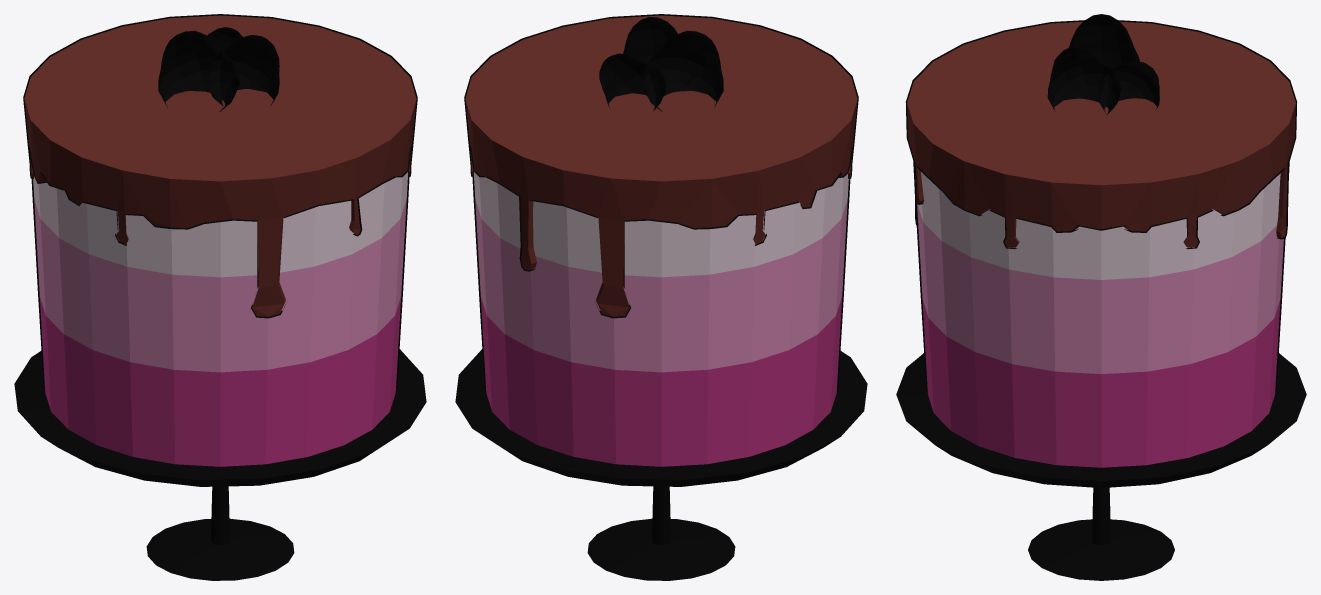
The model's file is cake2.fbx.
3 renders of one model, left to right at view 1: azimuth 30°, elevation 25°; view 2: azimuth 150°, elevation 25°; view 3: azimuth 270°, elevation 25°, orthographic.
Parts seen in each view (by area): view 1: Sphere.002_0; view 2: Sphere.002_0; view 3: Sphere.002_0.
Boxes of the visible parts, bbox=[...] form: Sphere.002_0: bbox=[14, 14, 426, 580]; Sphere.002_0: bbox=[455, 14, 867, 580]; Sphere.002_0: bbox=[896, 14, 1306, 580].
Size of the model in its own units: 38.15 by 53.2 by 38.15.
